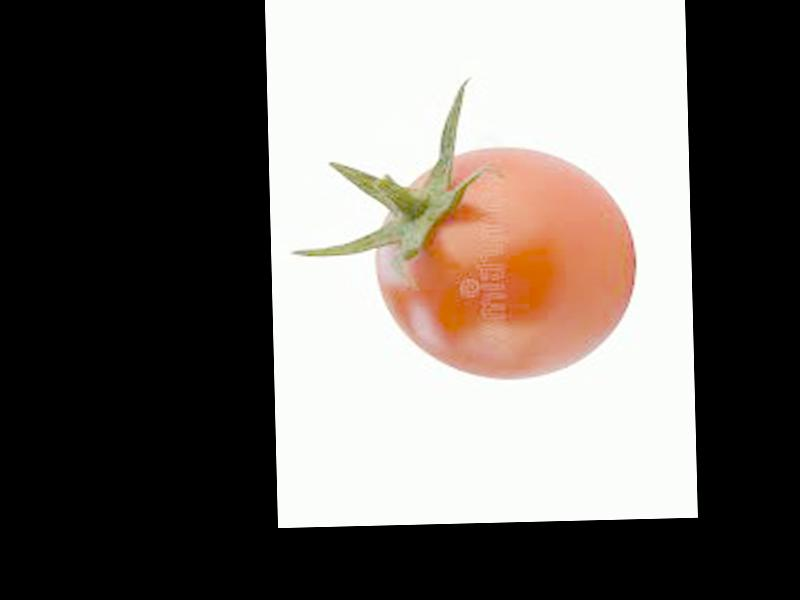Tomato: (374, 146, 639, 383)
